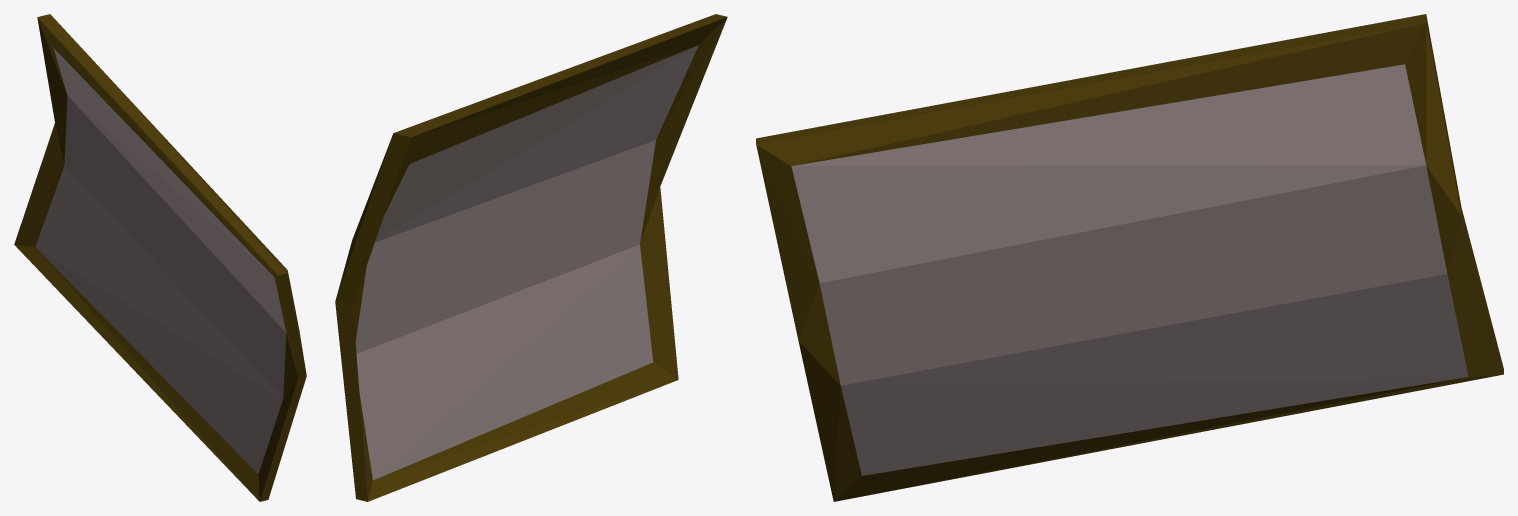
Rendered from npc_world_warrior_woman_8.obj.
The picture shows the model from 3 angles, left to right: view 1: azimuth 30°, elevation 25°; view 2: azimuth 150°, elevation 25°; view 3: azimuth 270°, elevation 25°; orthographic projection. The views are drawn at different scales.
Bounding box in the file's own units: 0.0859 × 0.5781 × 0.8281.
